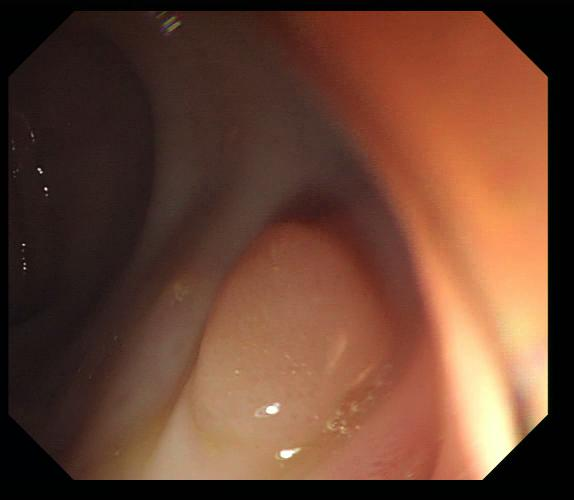polyp: (200, 219, 391, 460), (153, 273, 200, 318)
